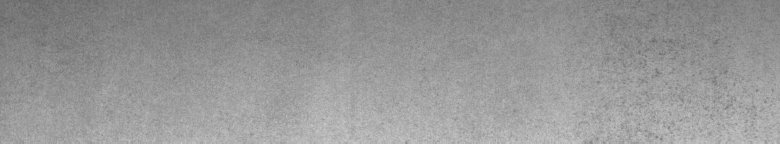ib: (624, 36, 742, 132)
